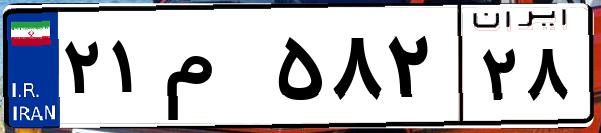1: (110, 28, 158, 98)
2: (385, 28, 445, 110), (57, 26, 110, 100), (475, 38, 525, 113)
5: (270, 28, 330, 110)
8: (330, 28, 385, 110), (525, 38, 570, 115)
م: (158, 20, 270, 120)
